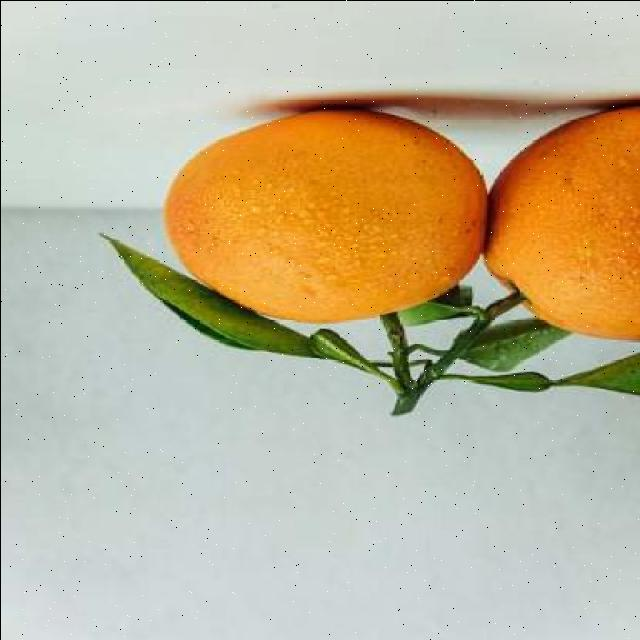Orange: (163, 106, 488, 326), (483, 103, 640, 345)
